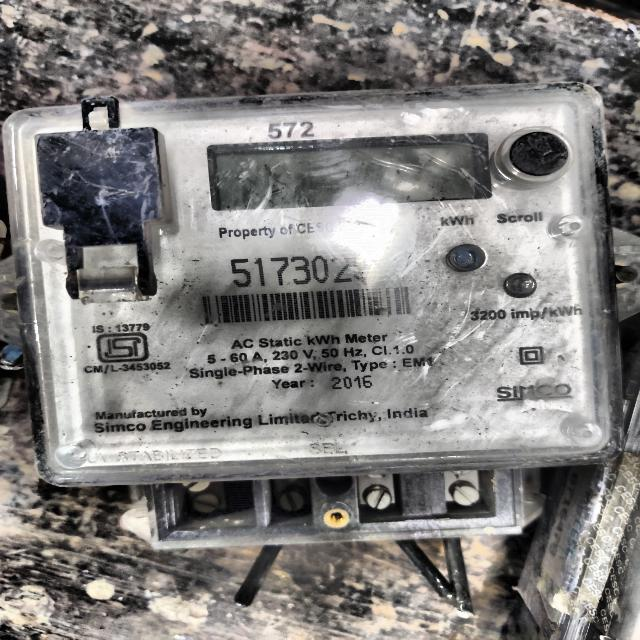Digital: (19, 97, 618, 464)
Reading: (216, 156, 481, 200)
Serial No.: (226, 253, 391, 287)
